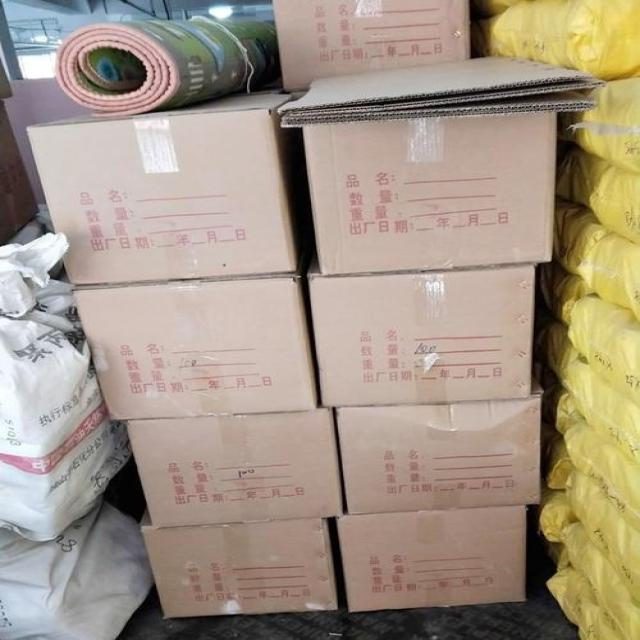box: (27, 89, 306, 285), (304, 229, 536, 410), (299, 114, 555, 277), (73, 277, 322, 421), (337, 378, 546, 513), (127, 409, 344, 532), (139, 502, 341, 619), (336, 506, 526, 610), (273, 3, 468, 87)
